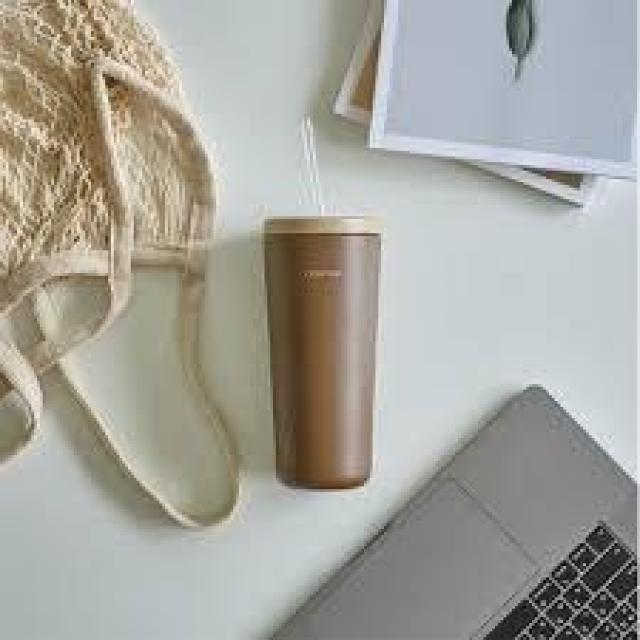bottle: (265, 122, 381, 495)
